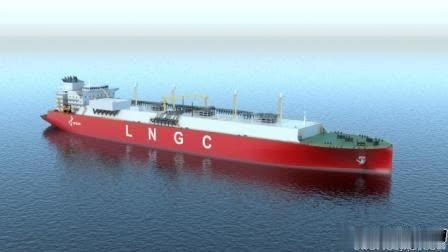Cargoship: (35, 73, 401, 178)
